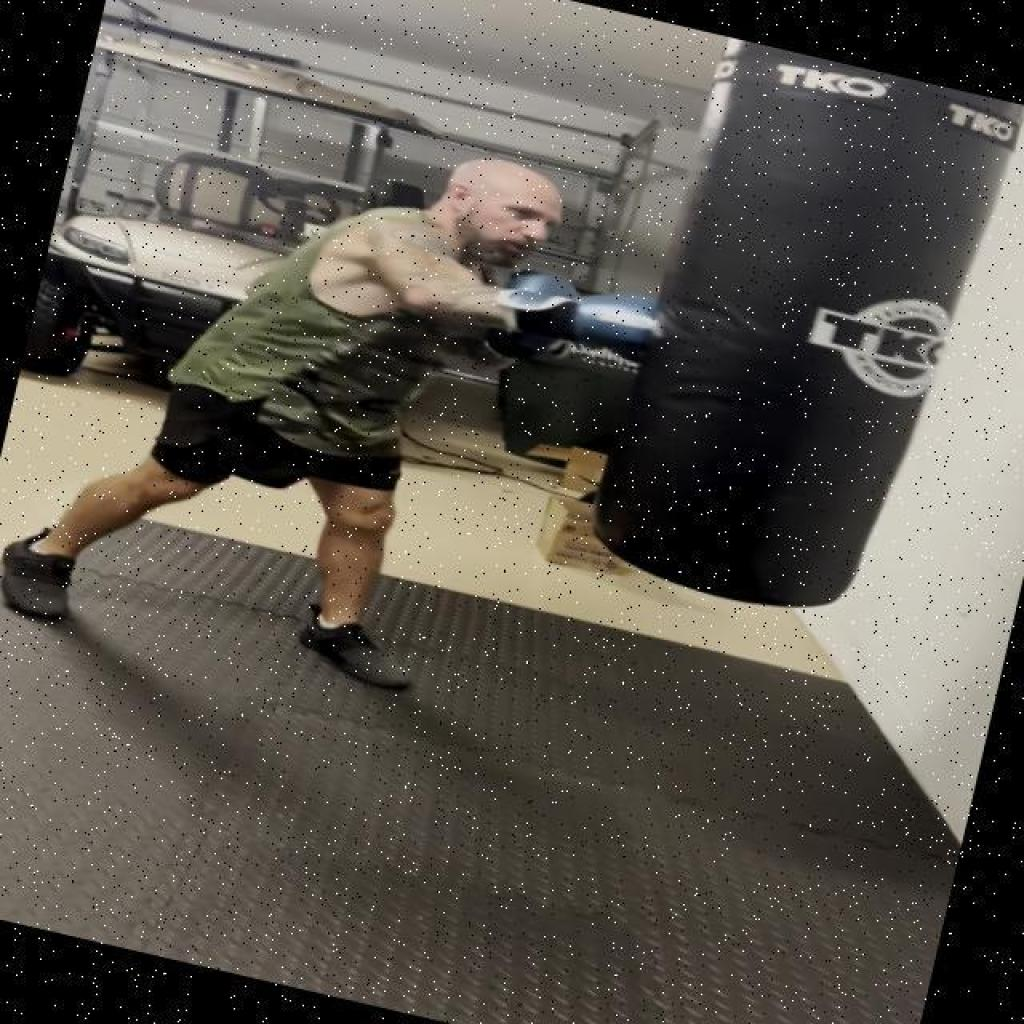bag: (597, 35, 1016, 650)
cross: (234, 88, 739, 434)
